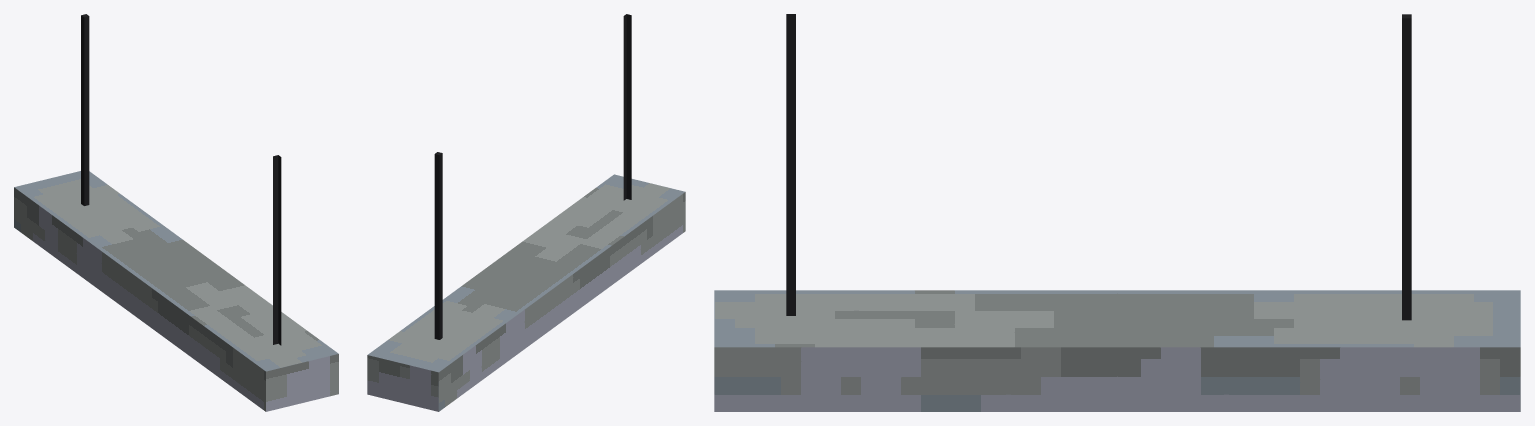
Rendered from Light_3.fbx.
3 renders of one model, left to right at view 1: azimuth 30°, elevation 25°; view 2: azimuth 150°, elevation 25°; view 3: azimuth 270°, elevation 25°, orthographic. The views are drawn at different scales.
Parts seen in each view (by area): view 1: 3.001; view 2: 3.001; view 3: 3.001.
Boxes of the visible parts, x1,y1,x2,y2 form: 3.001: [14, 14, 338, 411]; 3.001: [367, 14, 685, 411]; 3.001: [714, 14, 1520, 411].
Size of the model in its own units: 198 by 595 by 1185.
2 materials, 2 textured.
